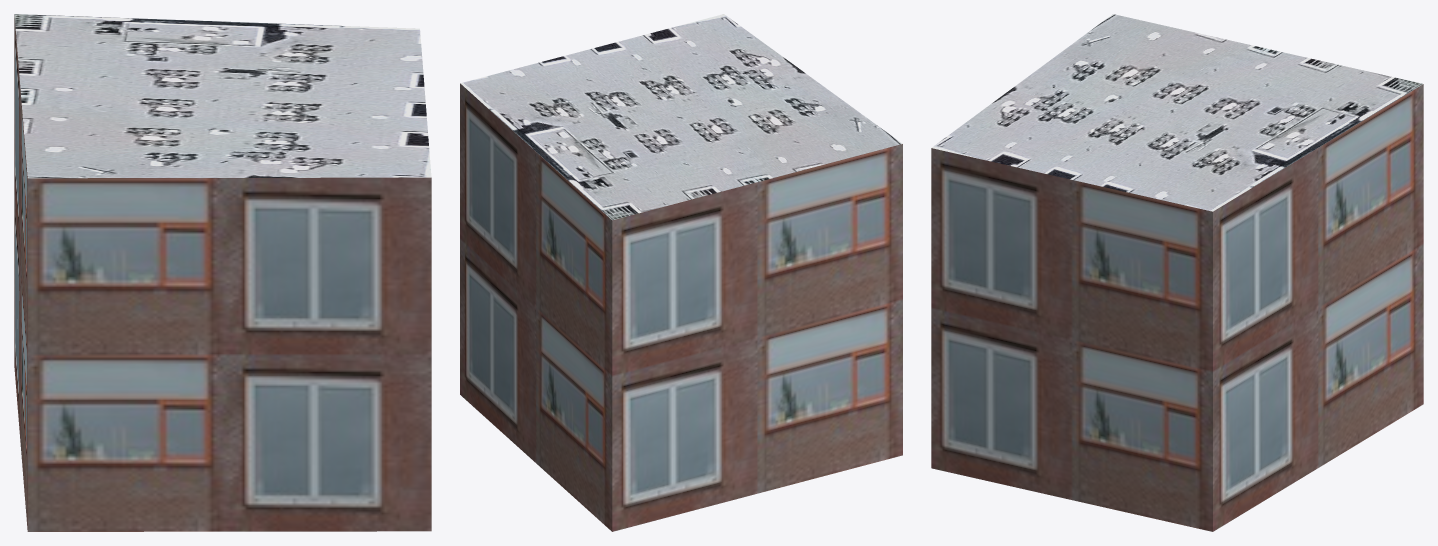
The model's file is ResTex__4570.fbx.
3 views of the same model, side by side, from view 1: azimuth 30°, elevation 25°; view 2: azimuth 150°, elevation 25°; view 3: azimuth 270°, elevation 25° (orthographic). The views are drawn at different scales.
Visible parts, largest first — view 1: CityEngineMaterial_19_m, CityEngineMaterial_15_m; view 2: CityEngineMaterial_19_m, CityEngineMaterial_15_m; view 3: CityEngineMaterial_19_m, CityEngineMaterial_15_m.
Boxes of the visible parts, left/top/right/bottom form: CityEngineMaterial_19_m: left=14, top=14, right=431, bottom=531; CityEngineMaterial_15_m: left=14, top=14, right=431, bottom=178; CityEngineMaterial_19_m: left=460, top=83, right=902, bottom=531; CityEngineMaterial_15_m: left=460, top=14, right=902, bottom=220; CityEngineMaterial_19_m: left=931, top=84, right=1423, bottom=531; CityEngineMaterial_15_m: left=932, top=14, right=1422, bottom=211.
Size of the model in its own units: 7.94 by 6 by 8.36.
Materials: 2 (2 with a texture image).
